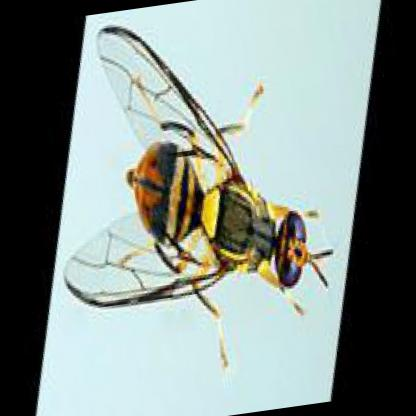fruit fly: (64, 23, 332, 317)
